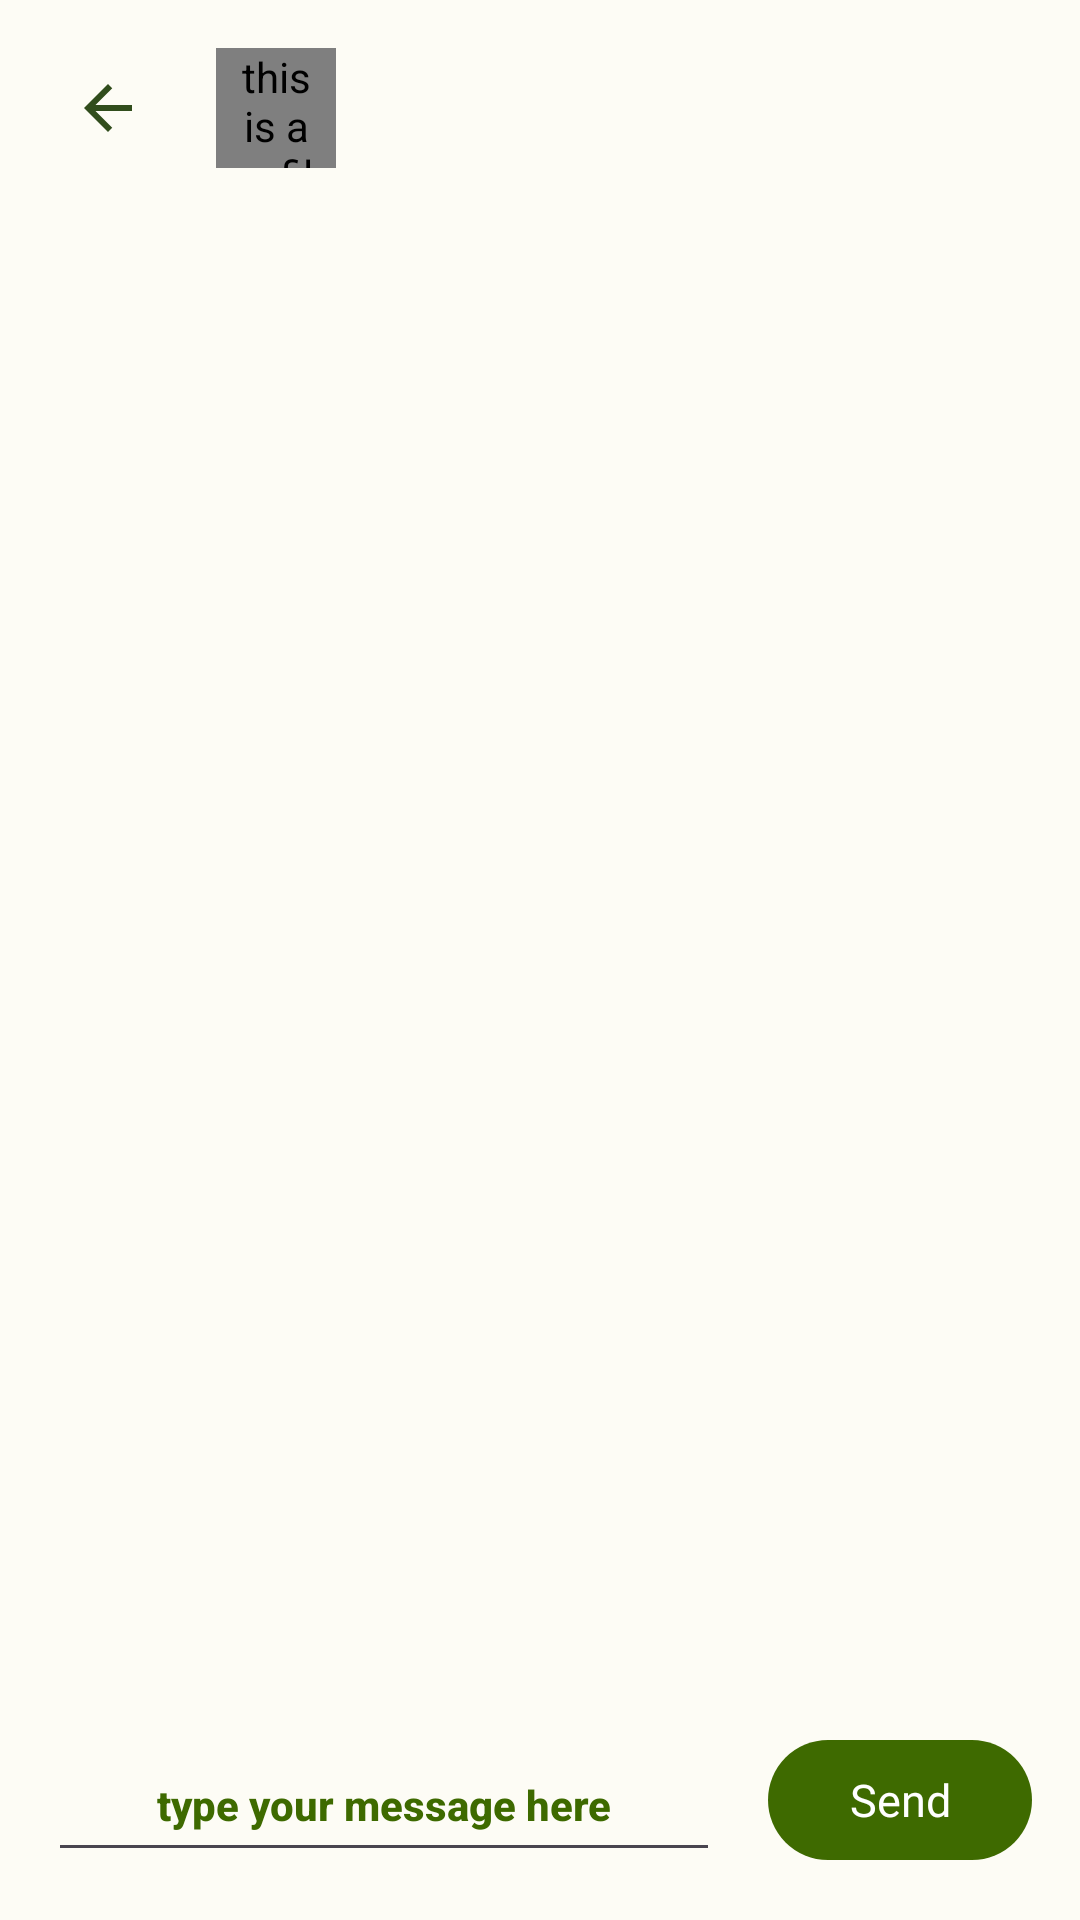

Icons on this 1080px x 1920px Android screen, each with the point to tap as (x,y):
back arrow: (108,108)
